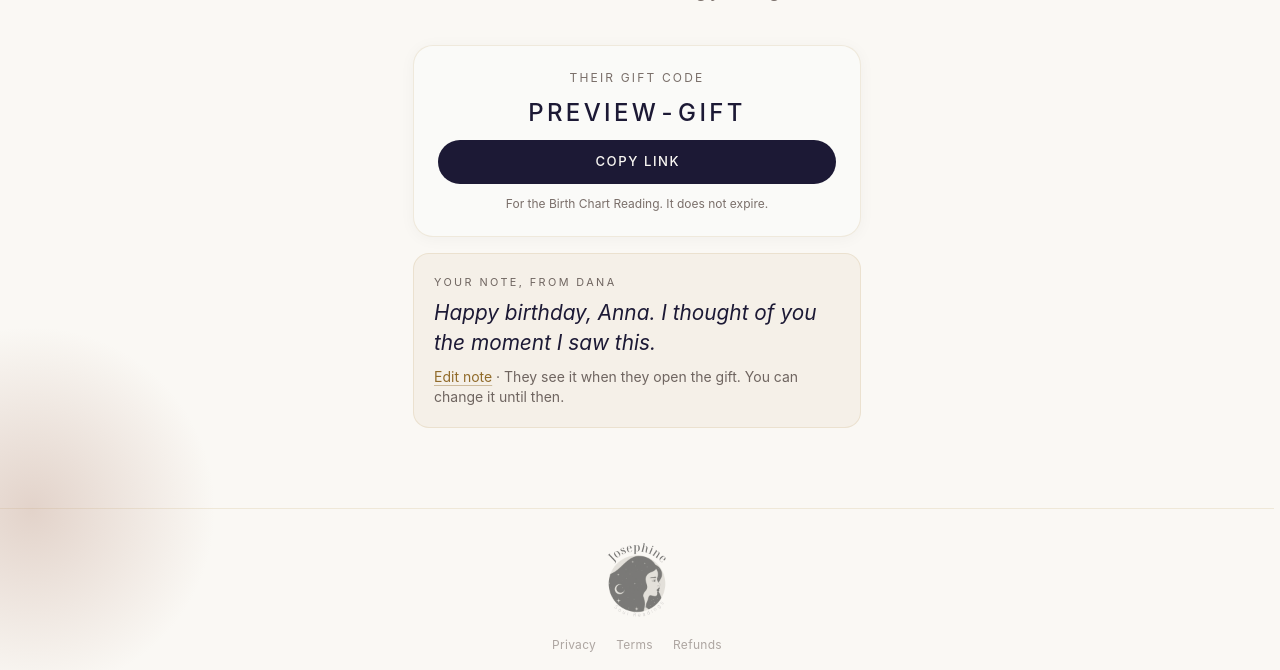
Test: /preview/gift/[state] › buyer-thank-you shows the sample note from Dana with Save note disabled
This screenshot has width=1280, height=670.
(page scrolled)
expect the text "Happy birthday, Anna. I thought of you the moment I saw this." is shown: met, box [434, 298, 840, 359]
Click the button "Edit note".
click(463, 377)  # box [434, 367, 492, 387]
(page scrolled)
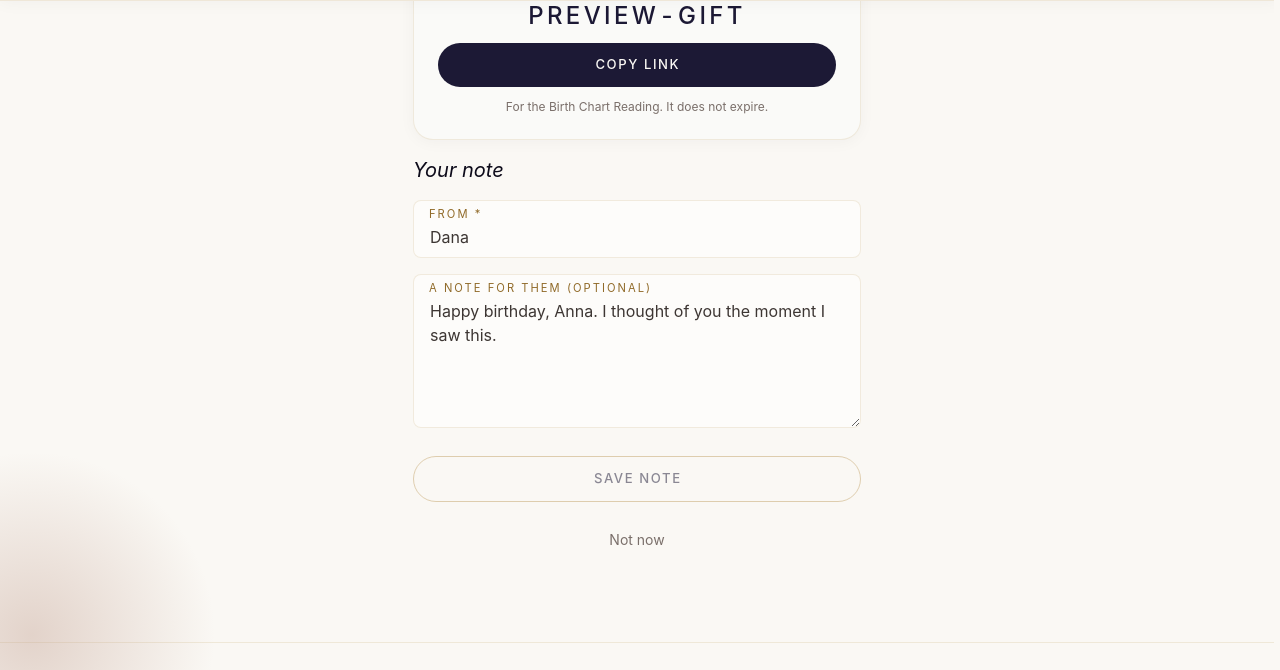
expect the button "Save note" is disabled: met, box [413, 456, 861, 502]
